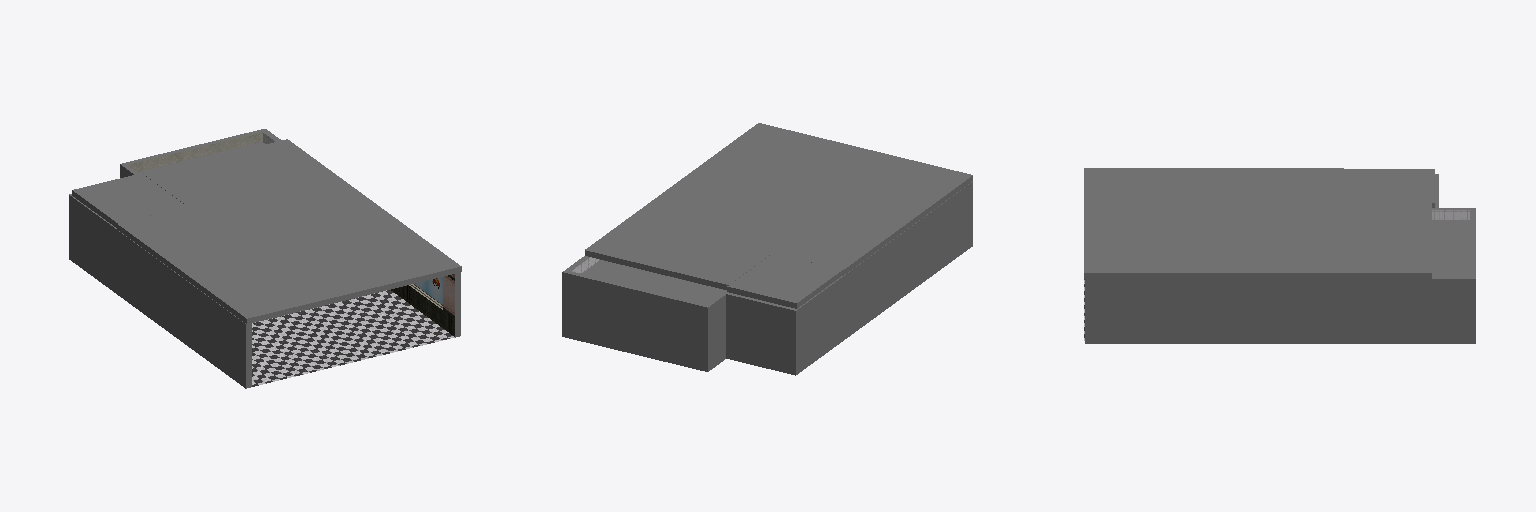
3 views of the same model, side by side, from view 1: azimuth 30°, elevation 25°; view 2: azimuth 150°, elevation 25°; view 3: azimuth 270°, elevation 25° (orthographic).
Visible parts, largest first — view 1: polySurface187, polySurface17 polySurface28, polySurface193, pCube4, pasted__polySurface31 pasted__polySurface23 pasted__polySurface1, polySurface195, polySurface17 polySurface25 polySurface42; view 2: polySurface187, polySurface17 polySurface25 polySurface42, polySurface193, polySurface17 polySurface43 polySurface25, pCube4, pasted__polySurface31 pasted__polySurface23 pasted__polySurface1, polySurface33 polySurface29, pasted__polySurface41 pasted__polySurface20 pasted__polySurface1; view 3: polySurface187, polySurface195, polySurface31 polySurface23 polySurface17, pCube4, polySurface33 polySurface29, polySurface17 polySurface25 polySurface42.
Boxes of the visible parts, <box> form: polySurface187: <box>117,139,461,323</box>; polySurface17 polySurface28: <box>252,290,454,386</box>; polySurface193: <box>117,230,251,388</box>; pCube4: <box>72,173,186,227</box>; pasted__polySurface31 pasted__polySurface23 pasted__polySurface1: <box>72,197,116,293</box>; polySurface195: <box>391,272,460,337</box>; polySurface17 polySurface25 polySurface42: <box>124,129,267,172</box>; polySurface187: <box>585,123,972,289</box>; polySurface17 polySurface25 polySurface42: <box>562,270,706,370</box>; polySurface193: <box>844,181,972,339</box>; polySurface17 polySurface43 polySurface25: <box>726,292,798,375</box>; pCube4: <box>727,253,842,308</box>; pasted__polySurface31 pasted__polySurface23 pasted__polySurface1: <box>798,276,843,372</box>; polySurface33 polySurface29: <box>582,260,725,303</box>; pasted__polySurface41 pasted__polySurface20 pasted__polySurface1: <box>704,291,727,371</box>; polySurface187: <box>1084,168,1431,278</box>; polySurface195: <box>1085,279,1358,343</box>; polySurface31 polySurface23 polySurface17: <box>1359,276,1469,343</box>; pCube4: <box>1344,169,1434,207</box>; polySurface33 polySurface29: <box>1432,220,1469,275</box>; polySurface17 polySurface25 polySurface42: <box>1470,210,1475,343</box>.
Bounding box in the file's own units: 16.34 × 5.11 × 25.82.
Materials: 35 (20 with a texture image).